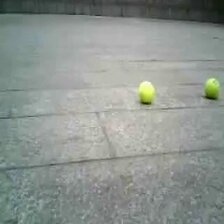tennis: (137, 81, 155, 103), (204, 78, 219, 99)
